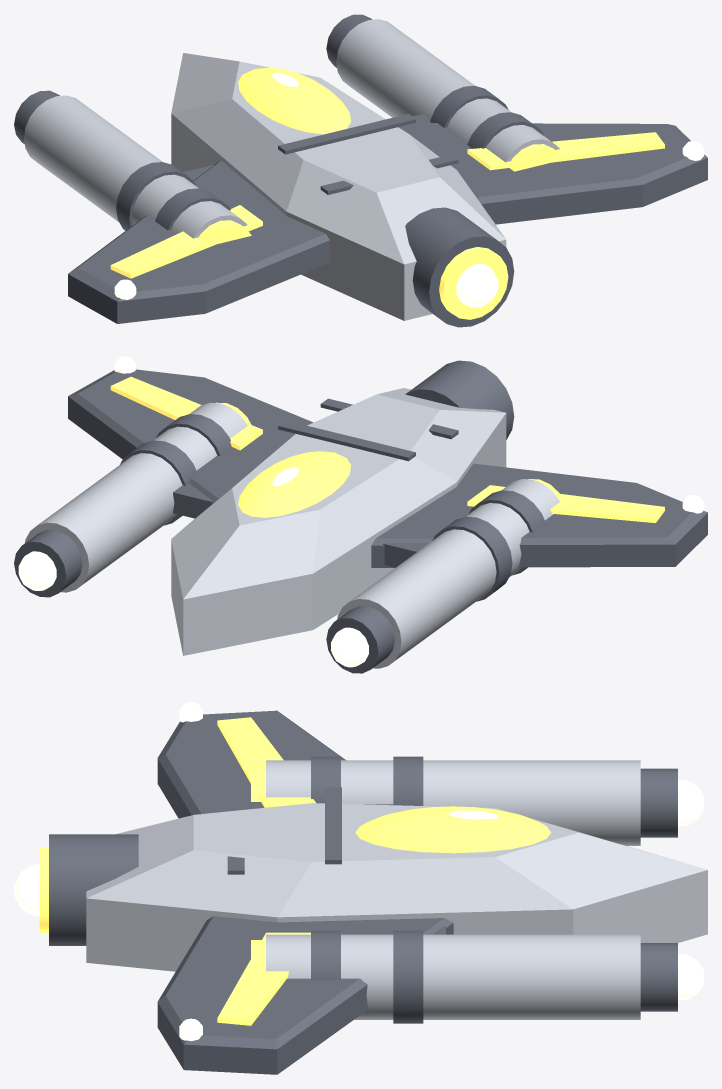
Rendered from drone_flax_6.glb.
3 renders of one model, top to bottom at view 1: azimuth 30°, elevation 25°; view 2: azimuth 150°, elevation 25°; view 3: azimuth 270°, elevation 25°, orthographic. The views are drawn at different scales.
Visible parts, largest first — view 1: drone_flax_6; view 2: drone_flax_6; view 3: drone_flax_6.
Boxes of the visible parts, x1=… form: drone_flax_6: x1=14, y1=14, x2=707, y2=327; drone_flax_6: x1=14, y1=356, x2=707, y2=673; drone_flax_6: x1=14, y1=702, x2=707, y2=1074.
Size of the model in its own units: 2.14 by 0.38 by 1.85.
